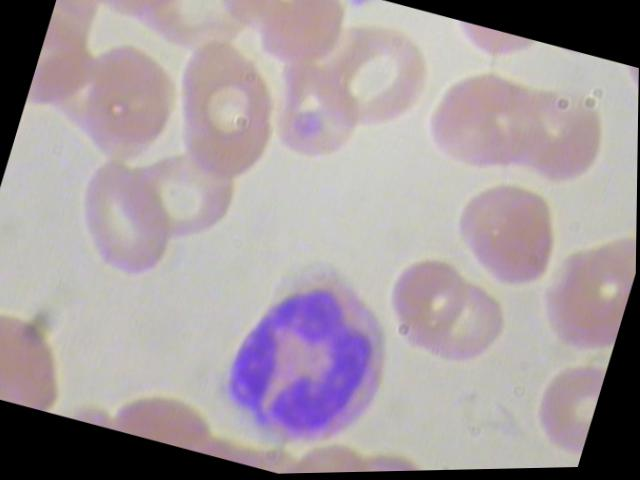Red Blood Cells: (146, 28, 300, 194), (111, 131, 249, 274), (54, 29, 192, 171), (56, 149, 193, 292), (306, 10, 443, 153), (435, 171, 574, 306), (417, 60, 552, 189), (489, 76, 624, 205), (248, 49, 379, 173), (389, 271, 515, 382), (376, 248, 485, 357), (0, 299, 81, 415), (523, 358, 606, 465)
White Blood Cells: (181, 229, 436, 476)
